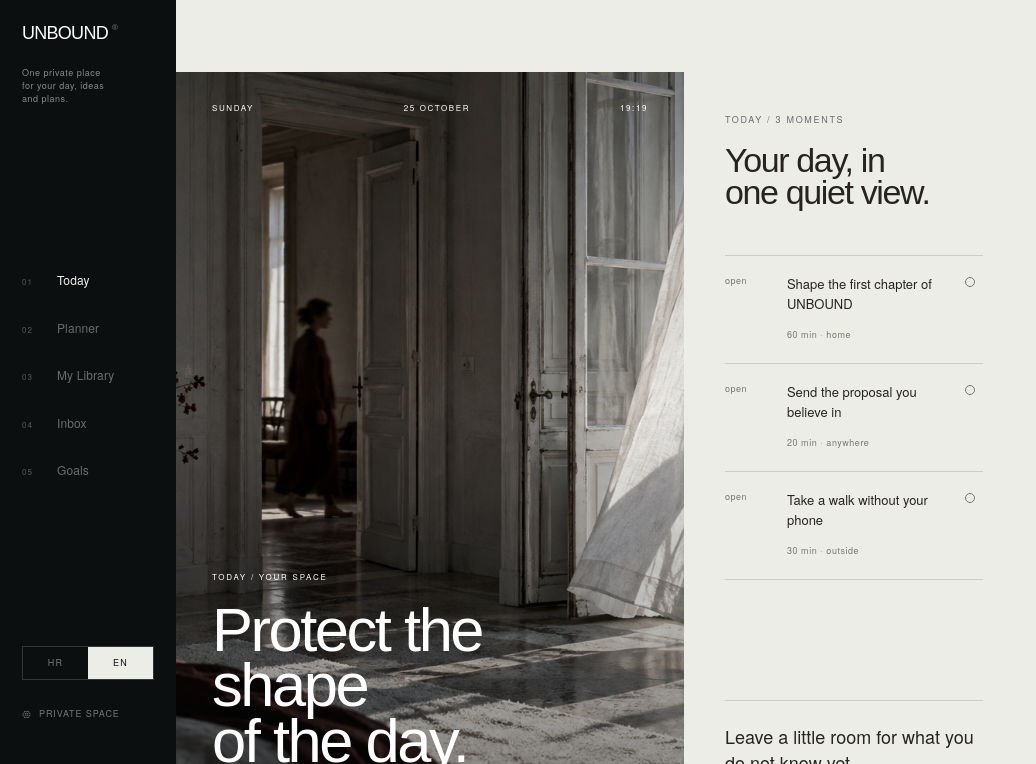
Test: UNBOUND Life OS interactions › guides a person toward a useful list without prescribing its contents
Click the link "03 My Library": coordinates (68, 375) 22,366 -> 114,383
(page scrolled)
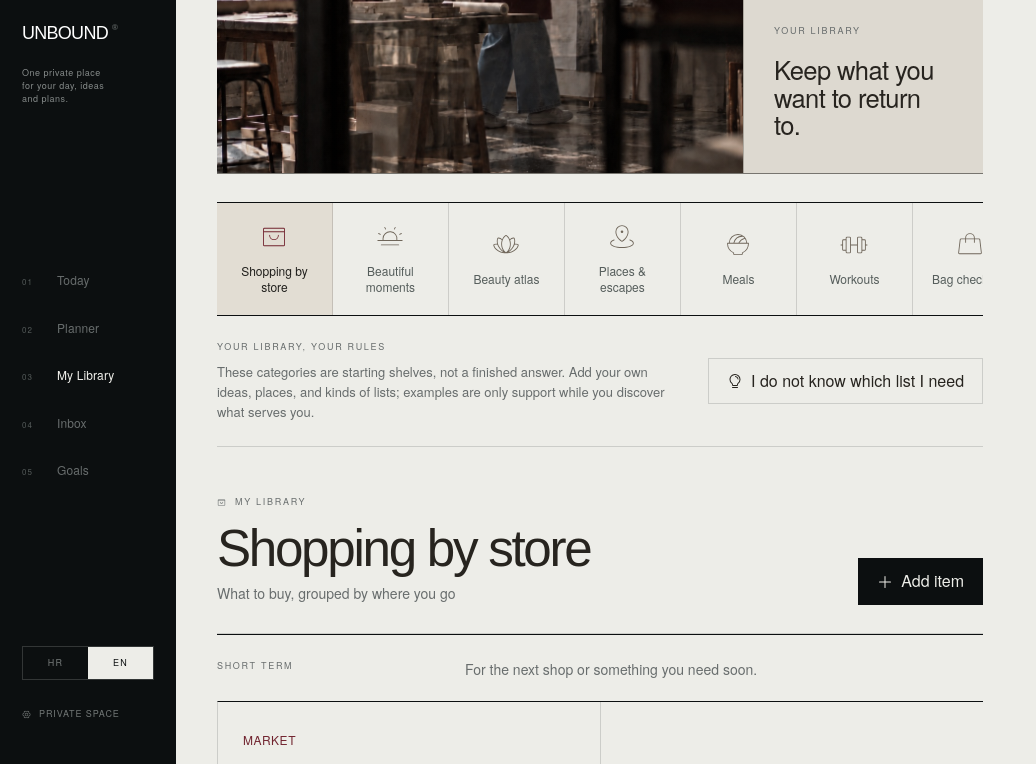
Click the button "I do not know which list I need": coordinates (846, 381) 708,358 -> 983,404
(page scrolled)
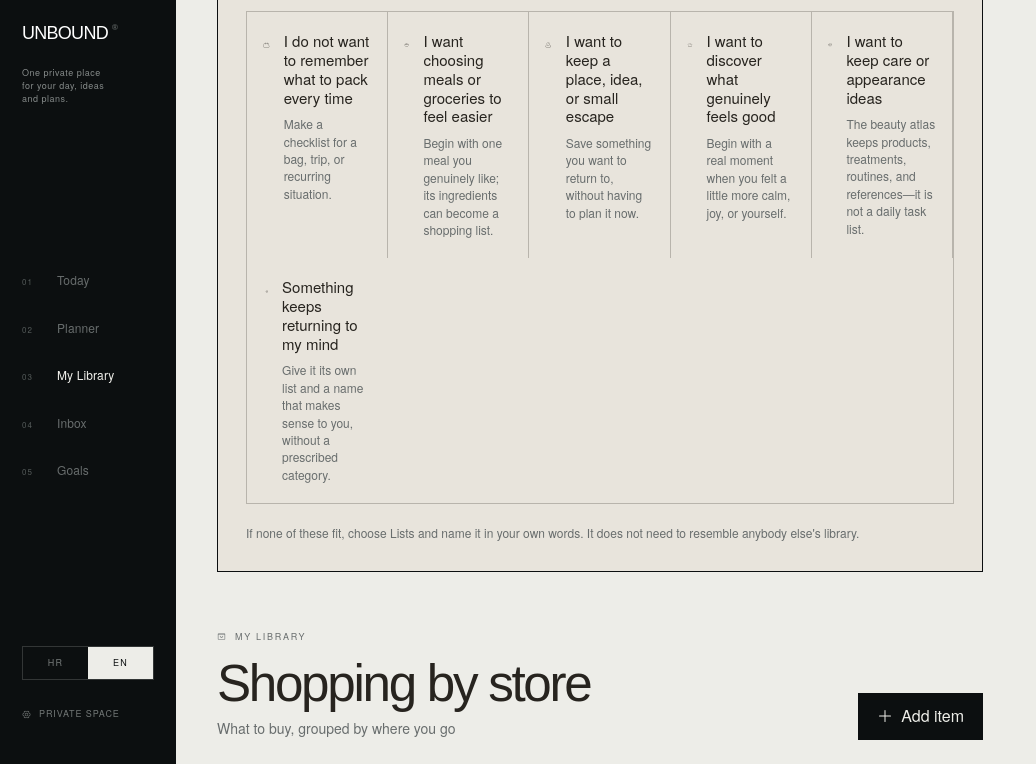
Click the button "Something keeps returning to my mind": coordinates (318, 381) 247,258 -> 388,503
(page scrolled)
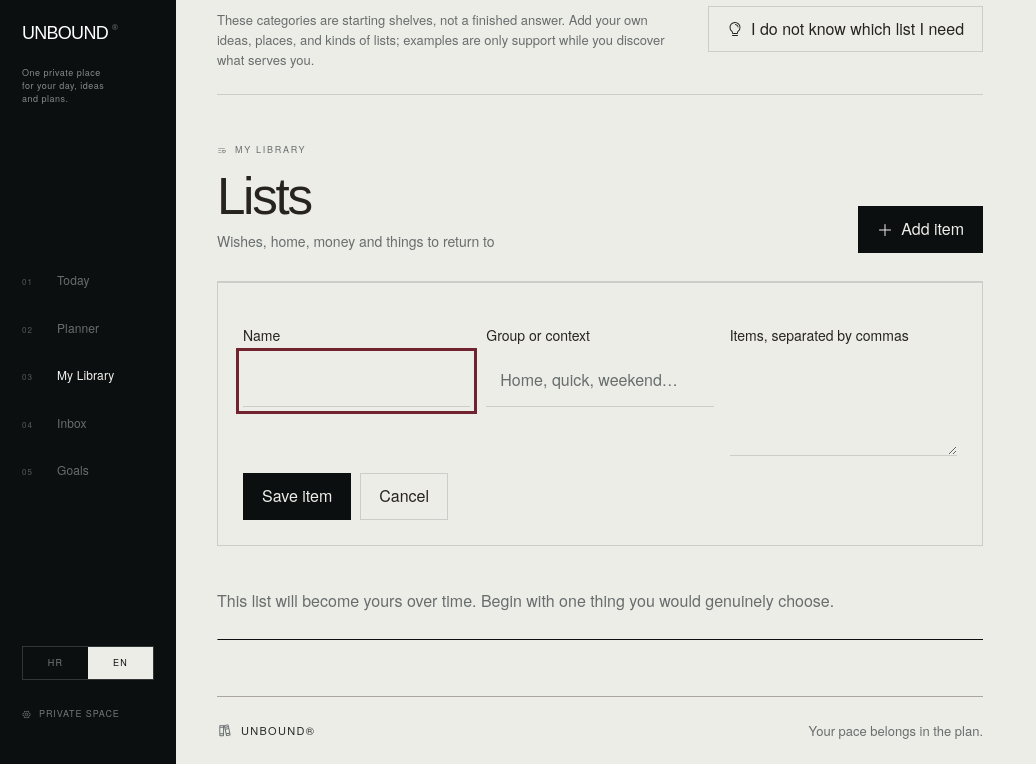
Check: the heading "Lists" is shown, box 217,168 -> 311,225
Check: the field labelled "Name" is shown, box 243,355 -> 470,406
